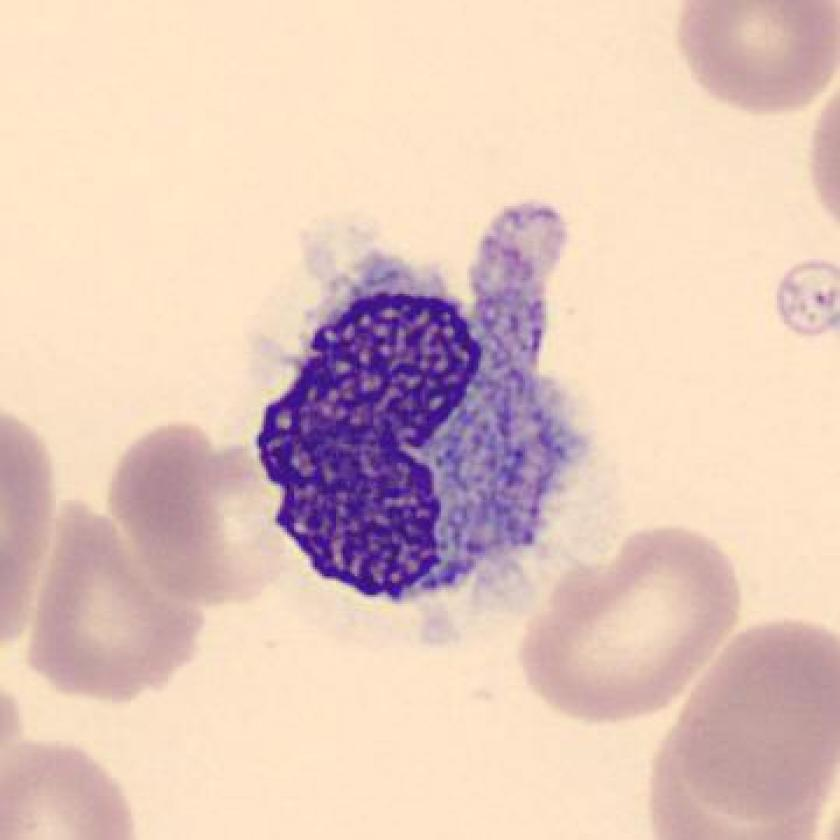monocyte: (227, 165, 624, 633)
